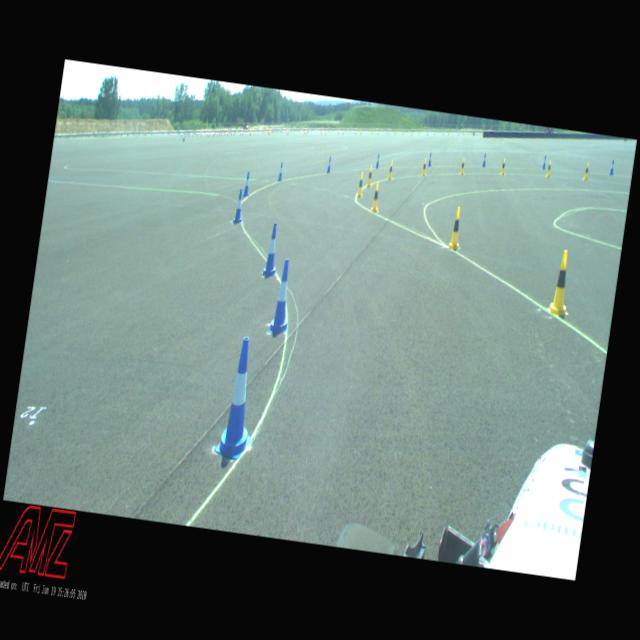blue_cone: (214, 336, 265, 462), (270, 258, 296, 335), (262, 222, 282, 277), (233, 188, 246, 224), (242, 172, 252, 197), (278, 162, 285, 182), (326, 156, 332, 174), (374, 153, 380, 170), (609, 159, 615, 175), (542, 154, 547, 170), (428, 152, 433, 167), (482, 154, 487, 167)
yellow_cone: (547, 249, 577, 317), (448, 207, 464, 250), (370, 182, 382, 212), (356, 172, 365, 198), (366, 165, 374, 188), (386, 160, 394, 180), (421, 158, 428, 176), (584, 162, 590, 180), (460, 157, 466, 175), (546, 160, 552, 178), (501, 159, 506, 175)
